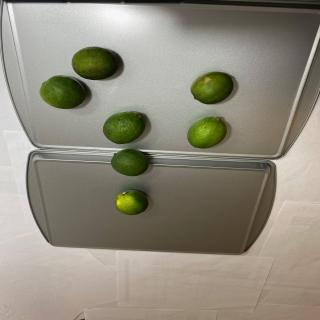Lemon: (71, 46, 119, 80), (39, 75, 86, 109), (190, 71, 234, 105), (102, 111, 146, 144), (187, 116, 227, 149), (110, 148, 149, 176), (114, 190, 149, 216)
